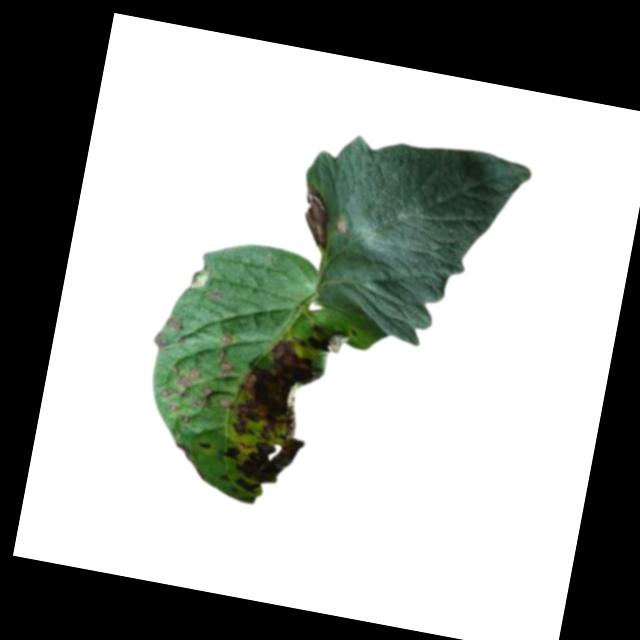Early_blight: (212, 314, 349, 505), (291, 181, 340, 253), (213, 331, 238, 380), (174, 363, 199, 388), (193, 382, 213, 411), (163, 313, 184, 330), (195, 437, 212, 450)
